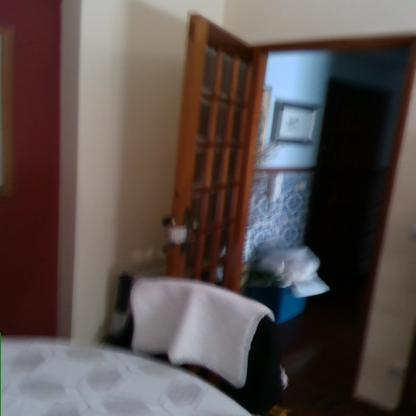open: (169, 10, 415, 412)
